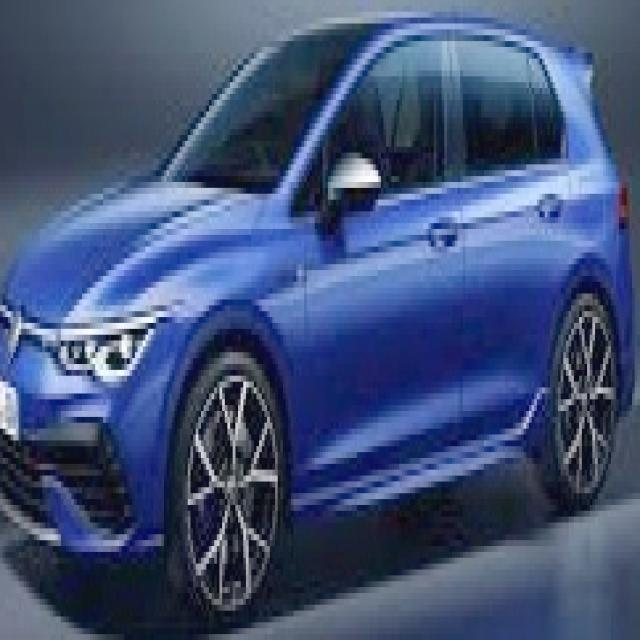blue: (0, 8, 633, 610)
